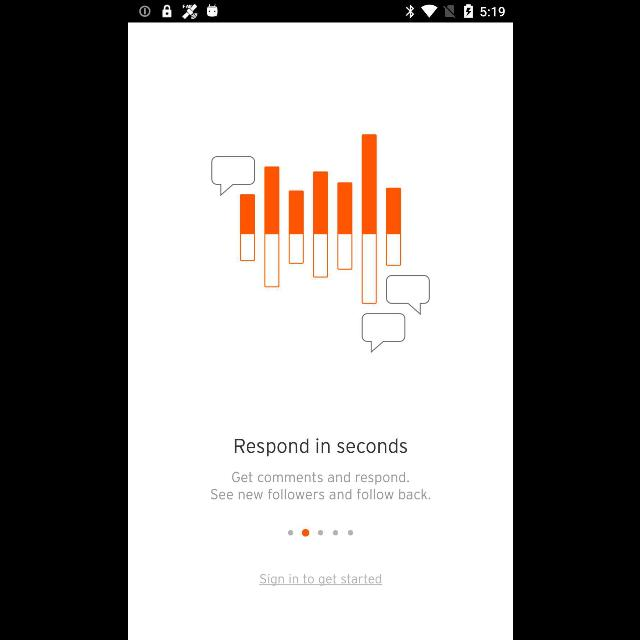image: (210, 134, 430, 352)
pageindicator: (288, 529, 352, 537)
text: (210, 472, 430, 500), (234, 438, 406, 457)
textbutton: (258, 574, 382, 586)
uppertaskbar: (128, 1, 512, 23)
